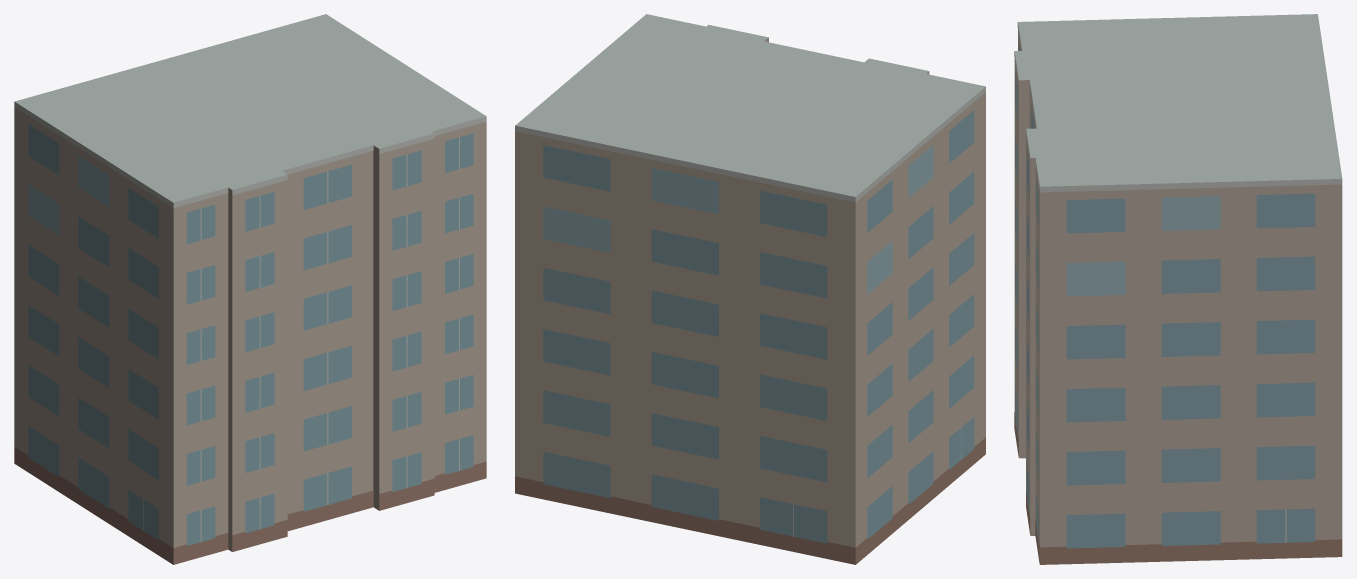
File: survey-upis-32735886.glb
3 views of the same model, side by side, from view 1: azimuth 30°, elevation 25°; view 2: azimuth 150°, elevation 25°; view 3: azimuth 270°, elevation 25° (orthographic). The views are drawn at different scales.
Visible parts, largest first — view 1: survey-upis-32735886.tmp; view 2: survey-upis-32735886.tmp; view 3: survey-upis-32735886.tmp.
Boxes of the visible parts, x1=… form: survey-upis-32735886.tmp: x1=14, y1=14, x2=486, y2=564; survey-upis-32735886.tmp: x1=515, y1=14, x2=985, y2=564; survey-upis-32735886.tmp: x1=1014, y1=14, x2=1342, y2=564.
Bounding box in the file's own units: 16.08 × 16.4 × 12.9.
